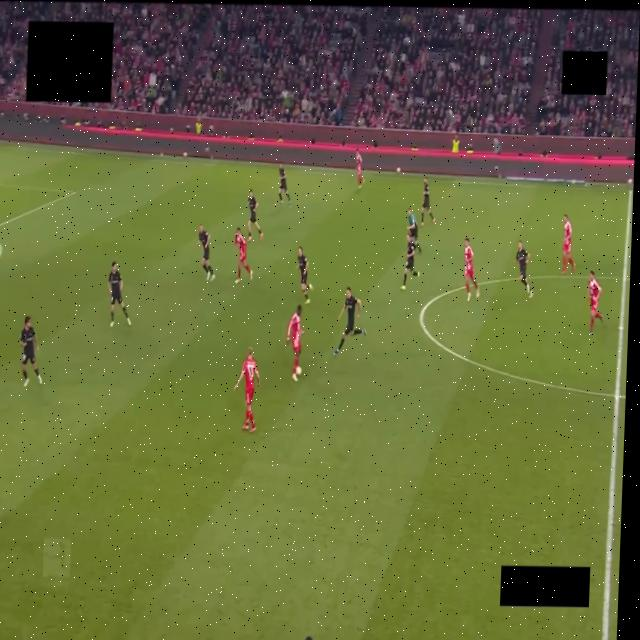ball: (296, 367, 301, 375)
player: (333, 286, 365, 356), (234, 348, 259, 432), (19, 317, 41, 386), (107, 262, 130, 327), (286, 306, 302, 381), (196, 225, 214, 280), (234, 228, 252, 283), (515, 241, 532, 298), (464, 238, 479, 302), (401, 235, 418, 290), (588, 271, 602, 334), (297, 247, 312, 304), (562, 214, 574, 274), (247, 190, 261, 241), (420, 177, 434, 226), (278, 164, 290, 206), (355, 149, 363, 188)
referee: (407, 208, 420, 253)
